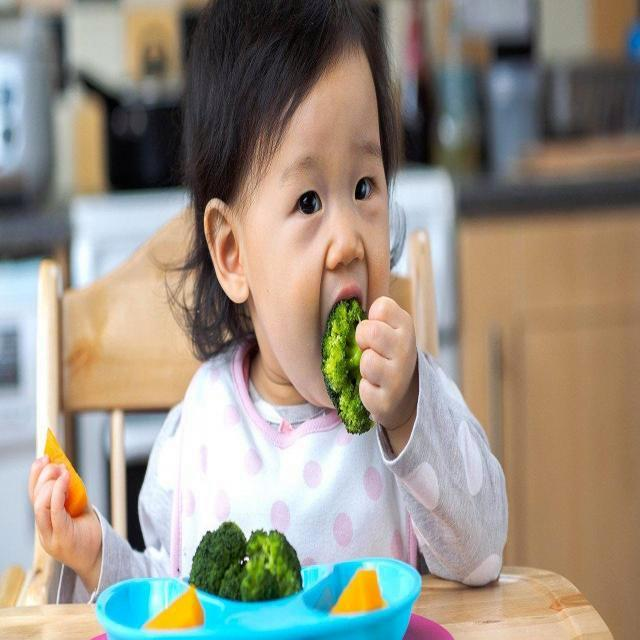child: (26, 3, 509, 640)
